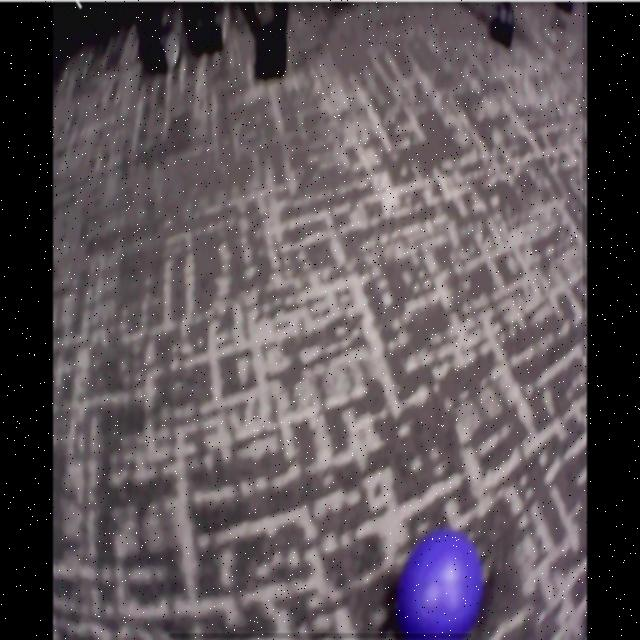ball: (400, 533, 481, 640)
